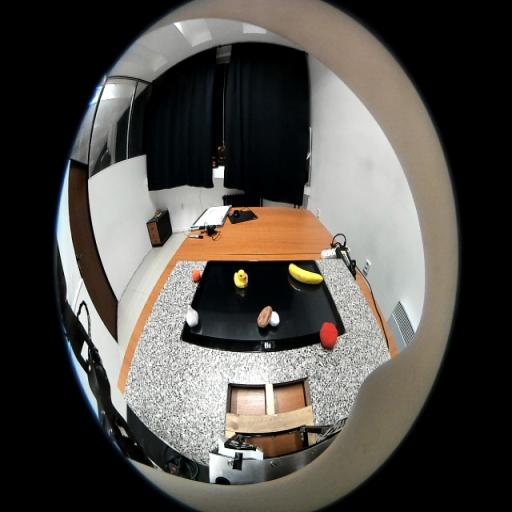Banana: (288, 264, 324, 284)
Duck: (234, 269, 248, 288)
Mushroom: (257, 306, 280, 328)
Onion: (186, 305, 199, 327)
Orange: (192, 270, 201, 282)
Tomato: (320, 322, 338, 348)
